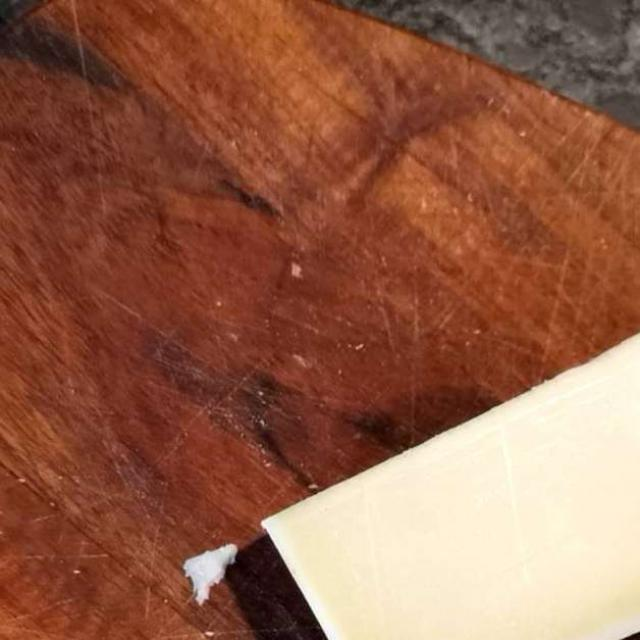gruyere: (264, 349, 638, 628)
